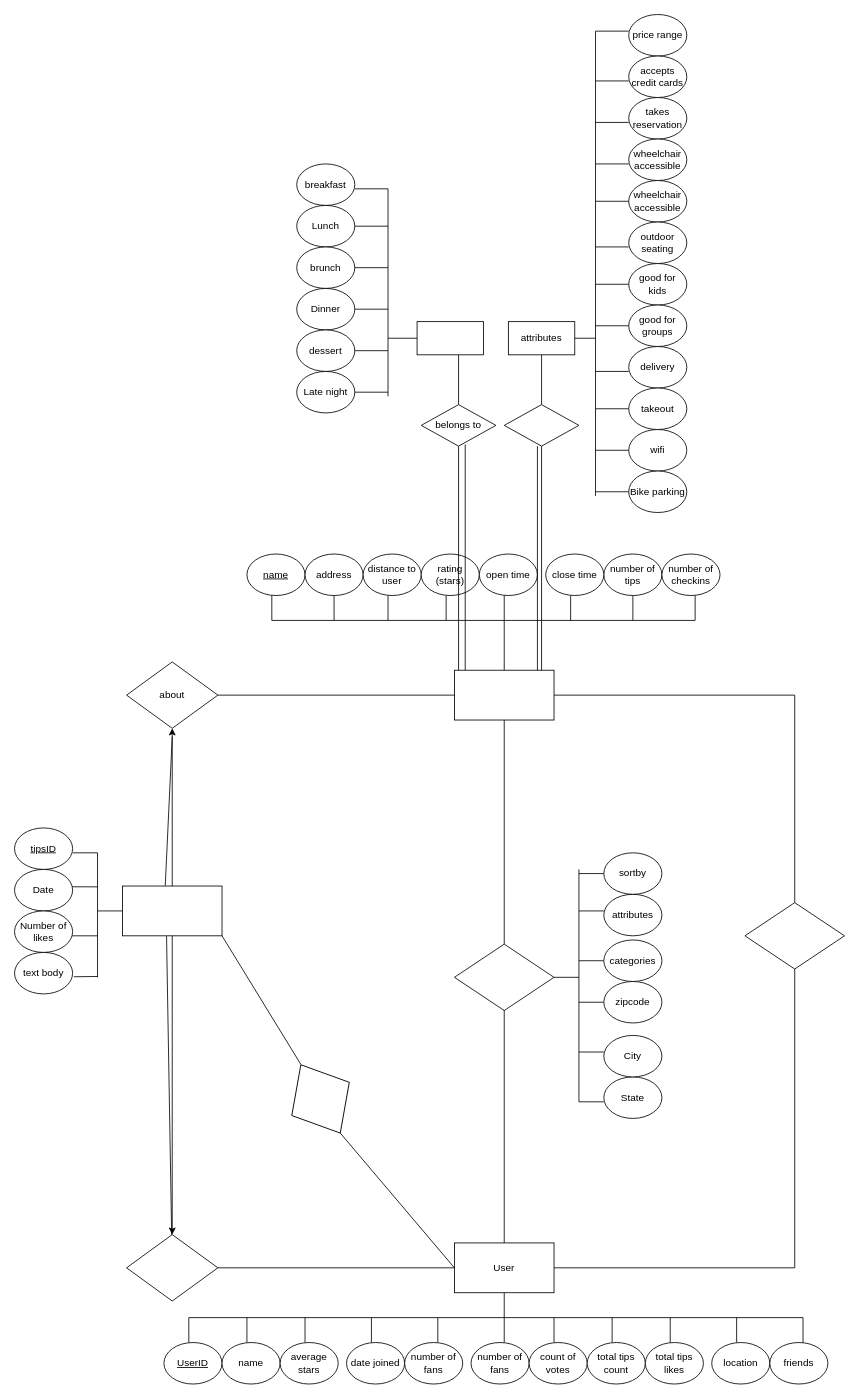
Image size: 859x1399. Some labels were removed from this diagram. The shapes that lost their labels are listed below. From the top down, each one's centre as x and y in pixels, then its label:
(449,338): category
(541,425): has
(504,694): Business
(172,910): tips
(794,935): check in
(504,977): Search
(320,1098): likes
(172,1267): posted by
